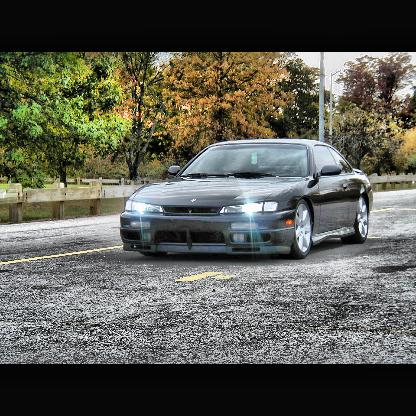Nissan 240SX Coupe 1998: (120, 137, 374, 257)
